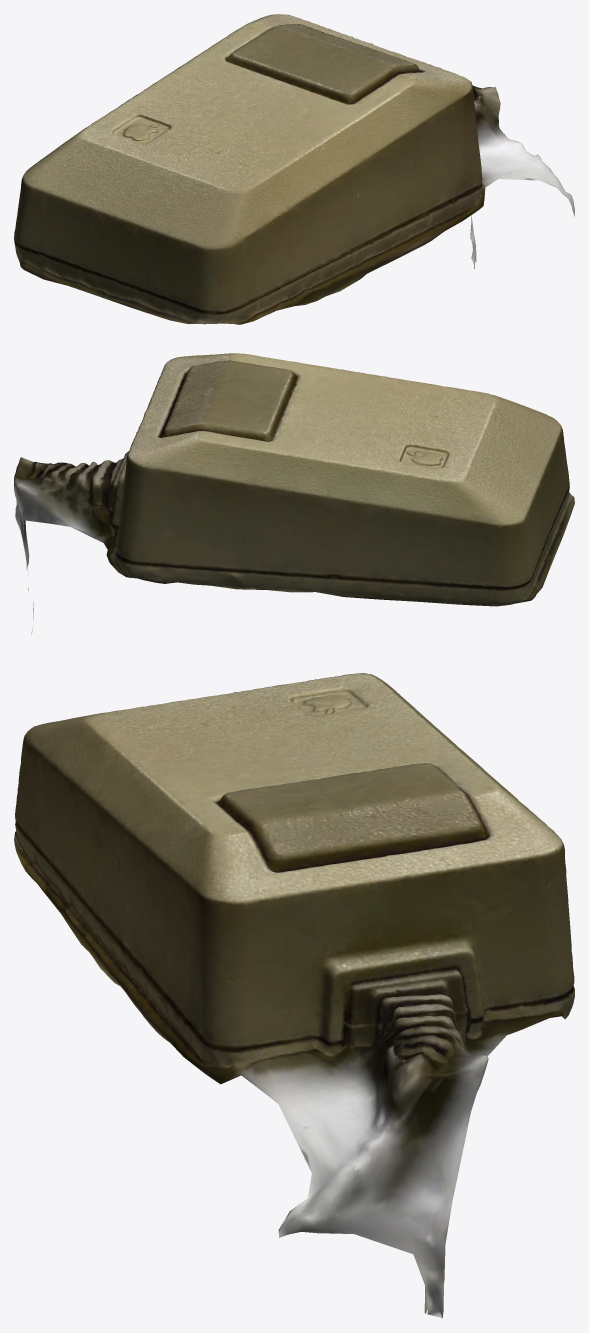
3 renders of one model, top to bottom at view 1: azimuth 30°, elevation 25°; view 2: azimuth 150°, elevation 25°; view 3: azimuth 270°, elevation 25°, orthographic. The views are drawn at different scales.
Visible parts, largest first — view 1: Node_0; view 2: Node_0; view 3: Node_0.
Part boxes in pixels (x1,y1,x2,y2): Node_0: [14, 14, 574, 324]; Node_0: [14, 353, 574, 634]; Node_0: [14, 673, 574, 1318].
Size of the model in its own units: 0.1379 by 0.0686 by 0.0883.
1 material, 1 textured.
